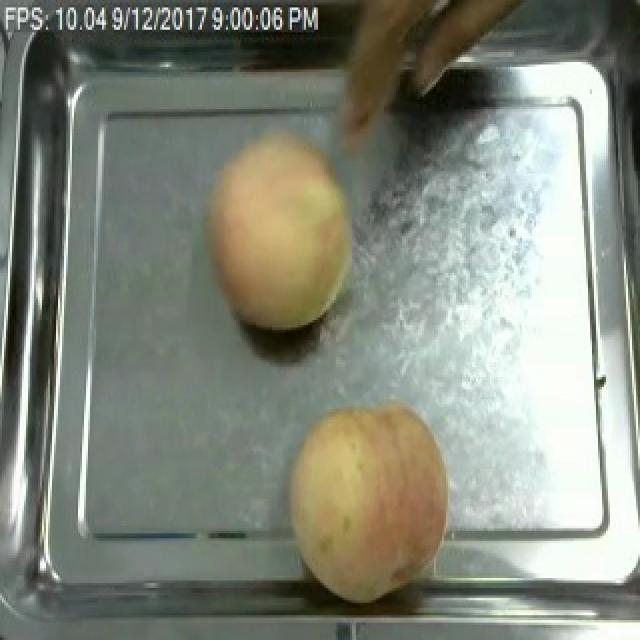Fruit: (276, 392, 460, 610), (196, 119, 364, 337)
